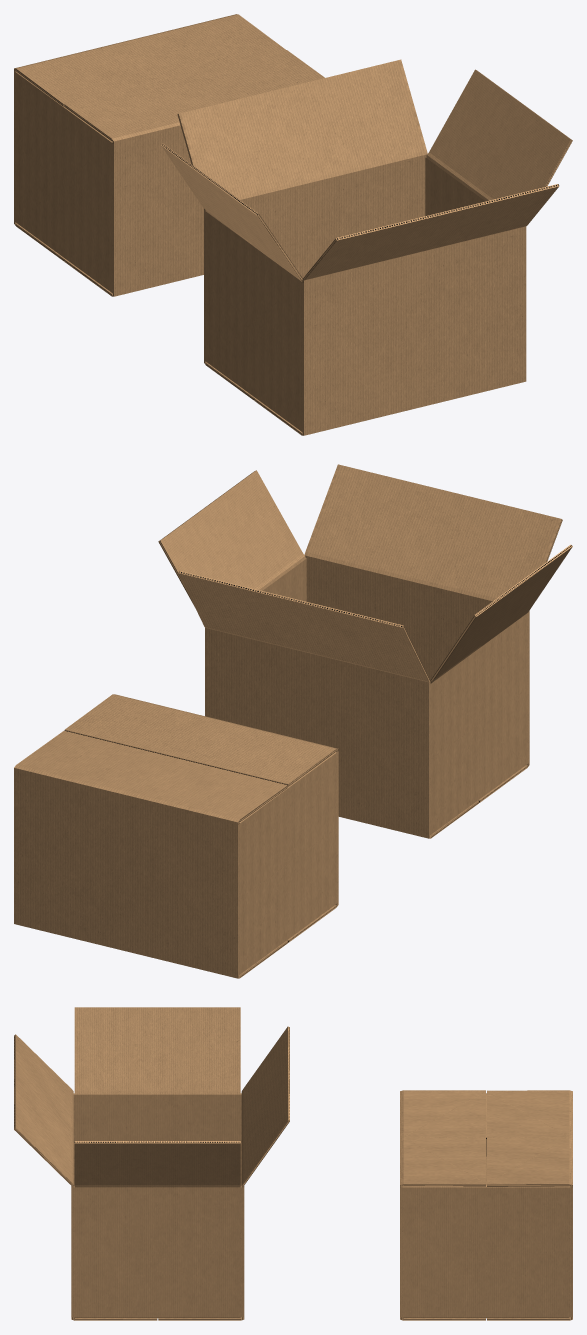
Rendered from cardboard_box_rigged.glb.
3 views of the same model, one above another, from view 1: azimuth 30°, elevation 25°; view 2: azimuth 150°, elevation 25°; view 3: azimuth 270°, elevation 25° (orthographic). The views are drawn at different scales.
Visible parts, largest first — view 1: Cardboard Box, Cardboard Box.001; view 2: Cardboard Box, Cardboard Box.001; view 3: Cardboard Box, Cardboard Box.001.
Boxes of the visible parts, x1,y1,x2,y2 form: Cardboard Box: (161,59,572,435); Cardboard Box.001: (14,14,324,296); Cardboard Box: (158,464,572,838); Cardboard Box.001: (14,694,338,978); Cardboard Box: (14,1007,289,1320); Cardboard Box.001: (400,1090,572,1320).
Bounding box in the file's own units: 0.6499 × 0.4567 × 1.15.
Materials: 3 (3 with a texture image).
